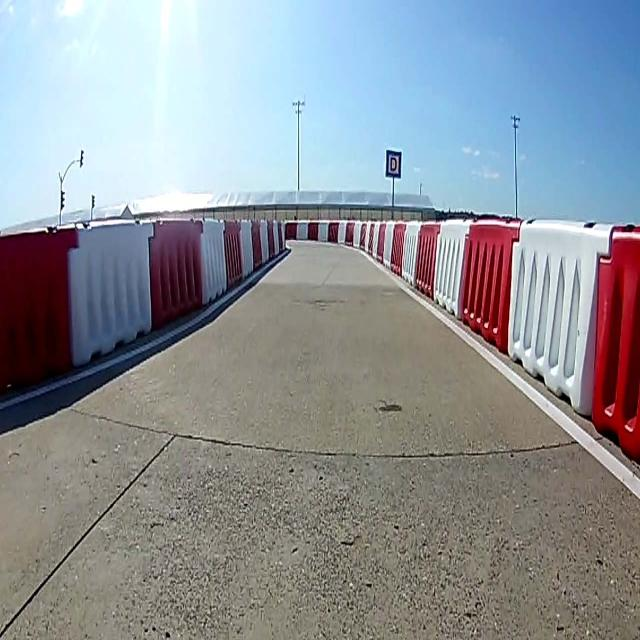durak: (386, 150, 400, 178)
